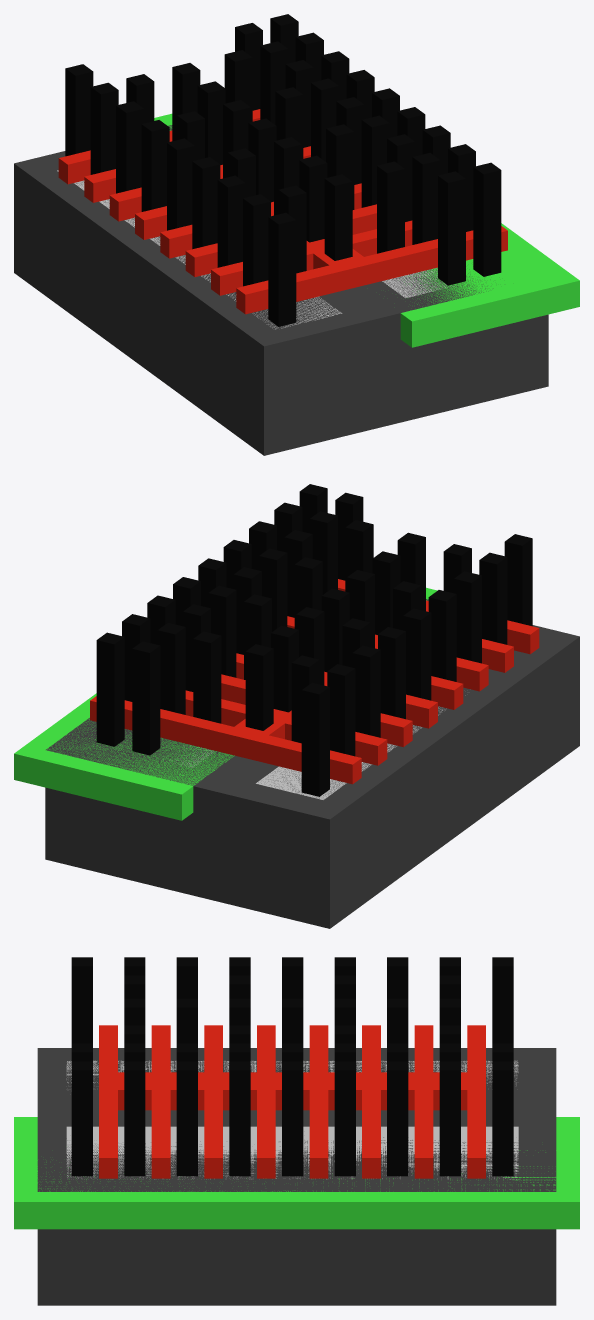
The model's file is sky130_fd_sc_hd__inv_8.obj.
3 views of the same model, one above another, from view 1: azimuth 30°, elevation 25°; view 2: azimuth 150°, elevation 25°; view 3: azimuth 270°, elevation 25° (orthographic). The views are drawn at different scales.
Visible parts, largest first — view 1: licon, subs, poly, nwell, diff, tap; view 2: licon, subs, poly, nwell, diff; view 3: subs, licon, poly, nwell, tap, diff.
Boxes of the visible parts, x1,y1,x2,y2 form: licon: [65, 14, 501, 326]; subs: [14, 125, 548, 455]; poly: [58, 109, 507, 314]; nwell: [154, 113, 579, 347]; diff: [57, 170, 342, 329]; tap: [382, 268, 454, 297]; licon: [96, 484, 532, 796]; subs: [45, 599, 579, 928]; poly: [90, 579, 539, 784]; nwell: [14, 587, 437, 820]; diff: [256, 695, 465, 799]; subs: [37, 1048, 556, 1305]; licon: [71, 957, 513, 1176]; poly: [99, 1025, 485, 1178]; nwell: [14, 1117, 579, 1229]; tap: [66, 1126, 518, 1179]; diff: [66, 1060, 518, 1085].
Size of the model in its own units: 2.91 by 1.94 by 4.52.
